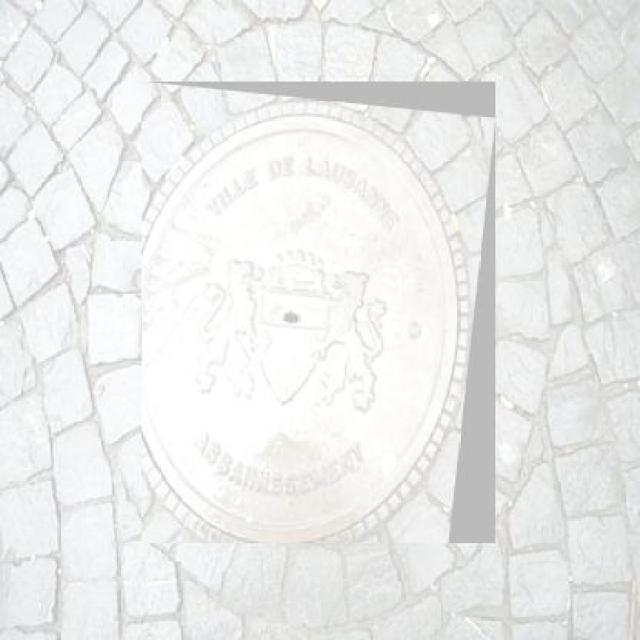Manhole: (142, 81, 496, 544)
